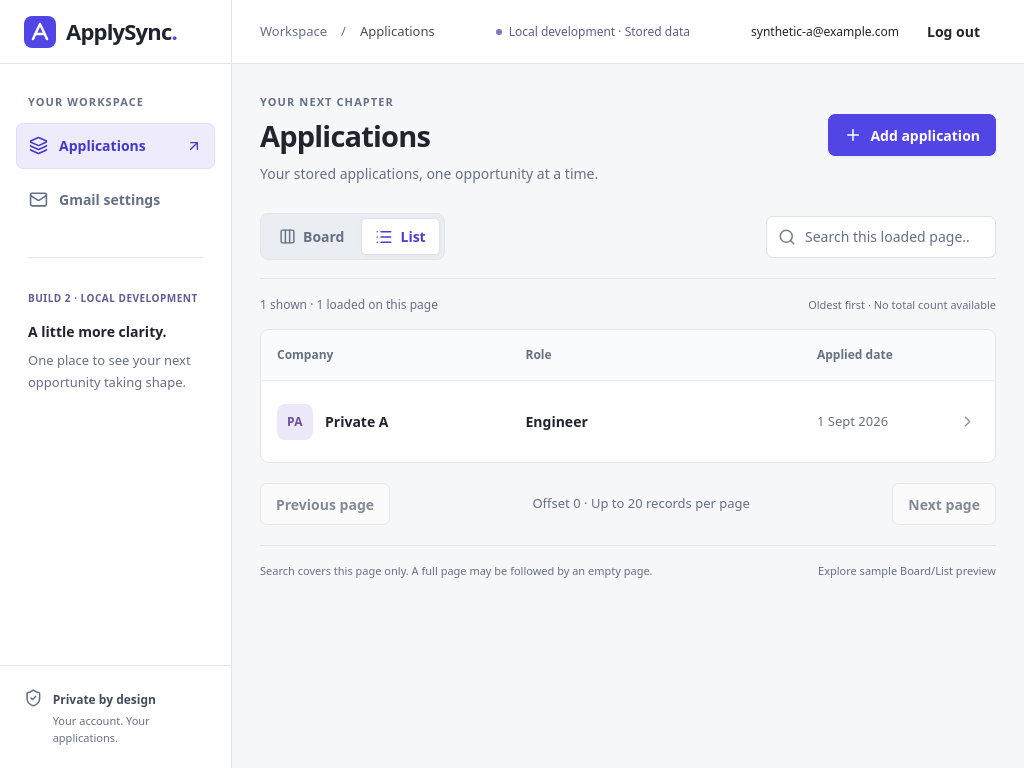
does not claim logout succeeded when the network fails, and hides private data
Expected: the text "Private A" is shown, [325,411,388,432]
Click the button "Log out" at (954, 32), box [911,10,996,52]
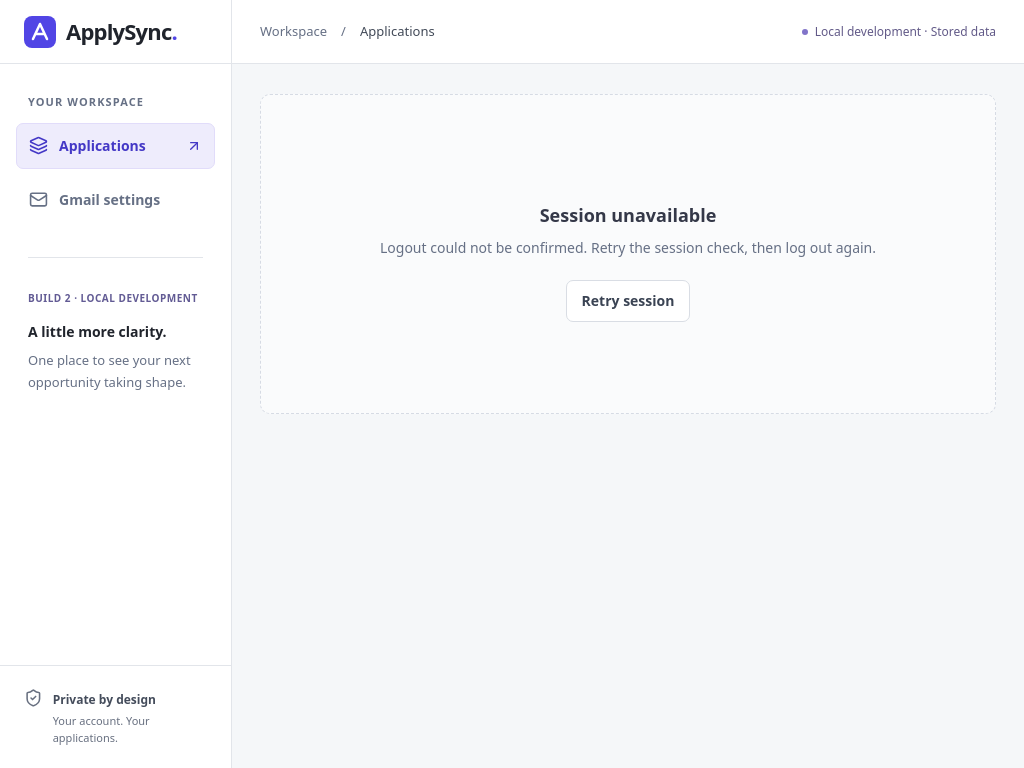
Result: the message shows "Logout could not be confirmed" at [380,238,876,257]
Result: the link "Private A" is gone
